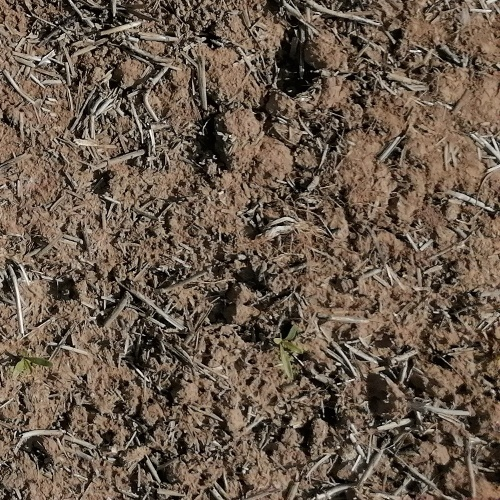beet: (273, 324, 302, 381), (13, 349, 54, 377)
